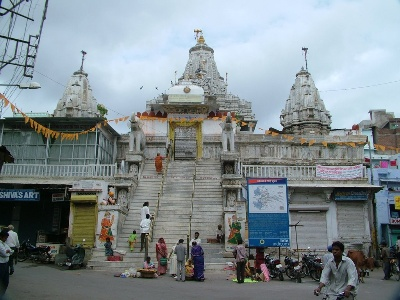gopuram: (280, 69, 335, 124), (174, 48, 233, 98), (55, 68, 107, 120)
